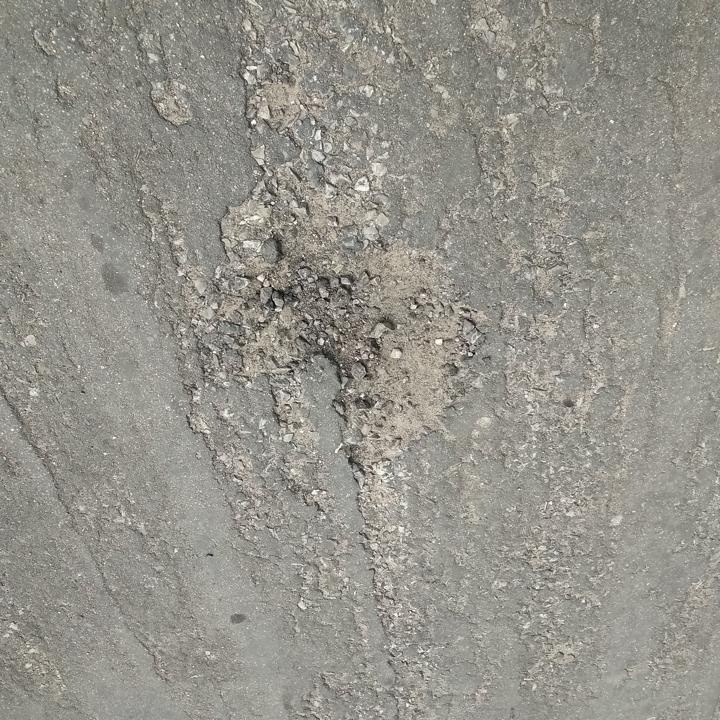pothole: (227, 169, 490, 474)
